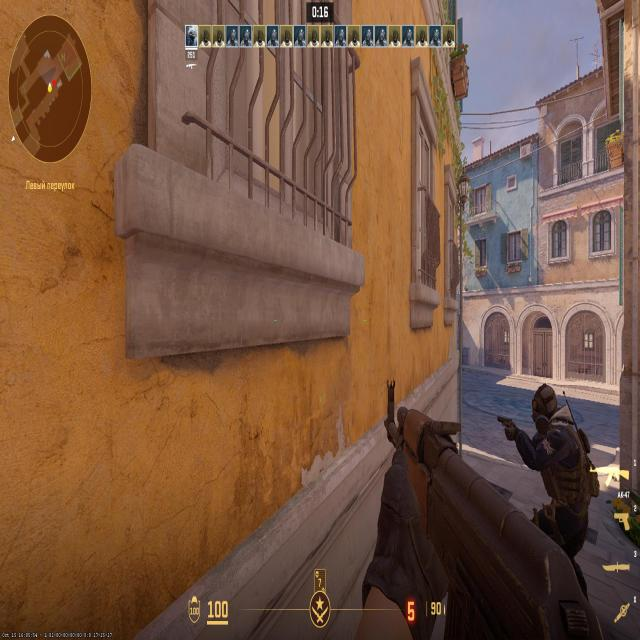CT: (533, 389, 578, 544)
CT_heat: (538, 403, 558, 439)
